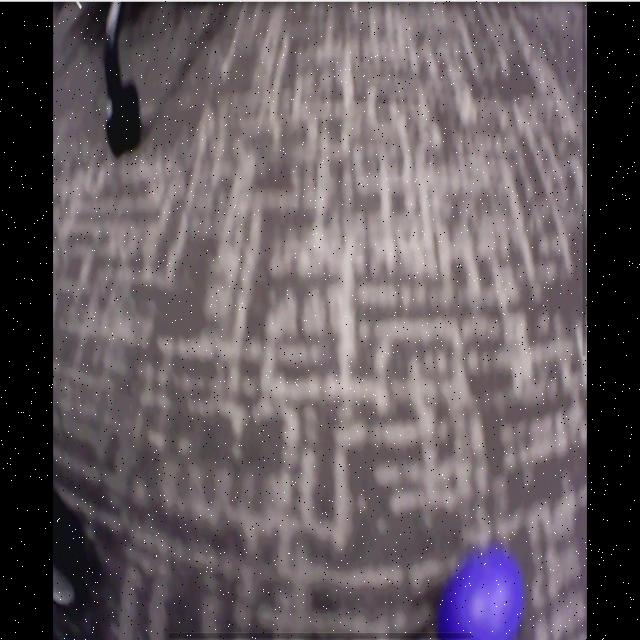ball: (440, 551, 525, 639)
